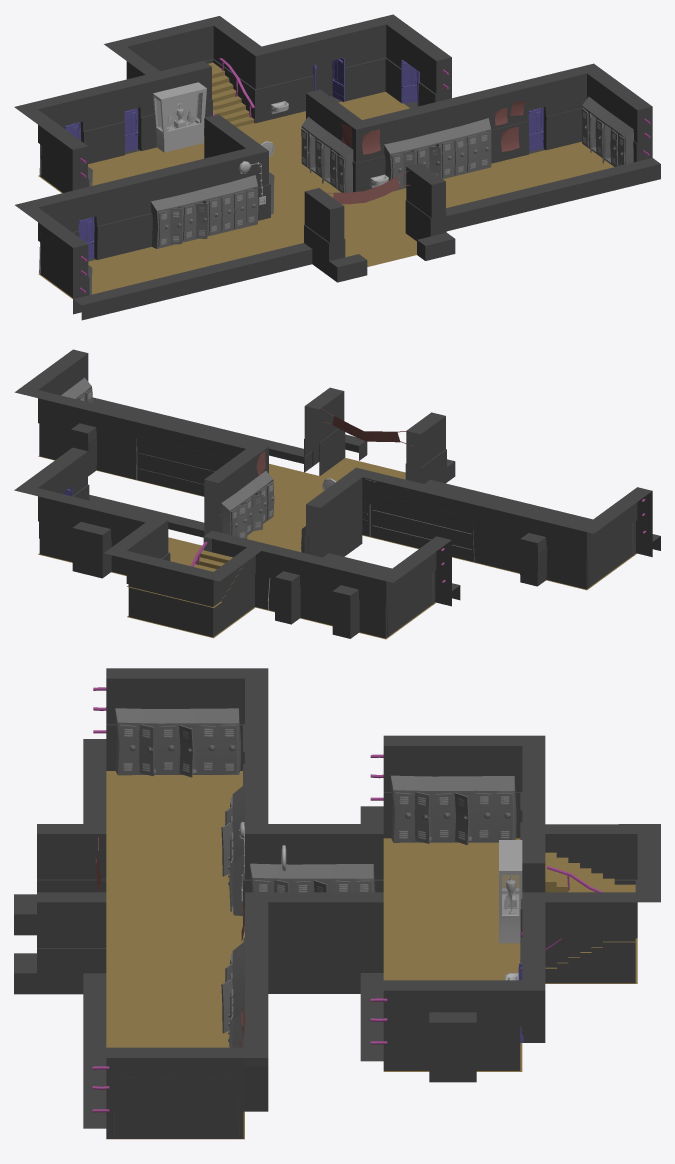
The model's file is GroundFloor.fbx.
3 views of the same model, one above another, from view 1: azimuth 30°, elevation 25°; view 2: azimuth 150°, elevation 25°; view 3: azimuth 270°, elevation 25° (orthographic). The views are drawn at different scales.
Parts seen in each view (by area): view 1: FrontHallwayWalls, BackWall, Floor, ShortWalls, EntrancecWalls, Lockers1, Lockers, SecondHinge (×5), TrophyCase, LockersShort1, LockersShort4, Stairs (+3 smaller); view 2: FrontHallwayWalls, BackWall, Floor, EntrancecWalls, ShortWalls, LockersShort1, ExtraWallStairs, Banner, Stairs, LockersShort4; view 3: Floor, FrontHallwayWalls, BackWall, EntrancecWalls, ShortWalls, LockersShort2, LockersShort3, LockersShort, Stairs, TrophyCase, Lockers1, OpenLockerDoor1 (×2) (+4 smaller).
Boxes of the visible parts, box(x1,y1,x2,y2) form: FrontHallwayWalls: box(15, 63, 652, 314); BackWall: box(14, 14, 451, 192); Floor: box(38, 91, 613, 298); ShortWalls: box(73, 158, 660, 320); EntrancecWalls: box(304, 163, 446, 275); Lockers1: box(151, 175, 258, 248); Lockers: box(384, 118, 491, 191); SecondHinge (×5): box(78, 58, 543, 259); TrophyCase: box(153, 82, 206, 152); LockersShort1: box(301, 116, 353, 192); LockersShort4: box(581, 96, 633, 166); Stairs: box(208, 62, 254, 127); FrontHallwayWalls: box(14, 349, 652, 589); BackWall: box(14, 447, 451, 638); Floor: box(38, 456, 636, 639); EntrancecWalls: box(304, 387, 446, 483); ShortWalls: box(89, 397, 660, 600); LockersShort1: box(221, 471, 274, 536); ExtraWallStairs: box(203, 530, 255, 557); Banner: box(322, 409, 412, 446); Stairs: box(127, 550, 243, 607); LockersShort4: box(61, 377, 92, 403); Floor: box(106, 771, 637, 1139); FrontHallwayWalls: box(106, 668, 383, 1138); BackWall: box(383, 735, 660, 1082); EntrancecWalls: box(37, 824, 106, 994); ShortWalls: box(14, 739, 383, 1128); LockersShort2: box(391, 775, 516, 842); LockersShort3: box(115, 708, 240, 775); LockersShort: box(250, 863, 375, 892); Stairs: box(545, 852, 637, 968); TrophyCase: box(499, 840, 522, 943); Lockers1: box(228, 784, 244, 916); OpenLockerDoor1 (×2): box(139, 724, 429, 843).
Bounding box in the file's own units: 39.92 × 4.39 × 28.01.
